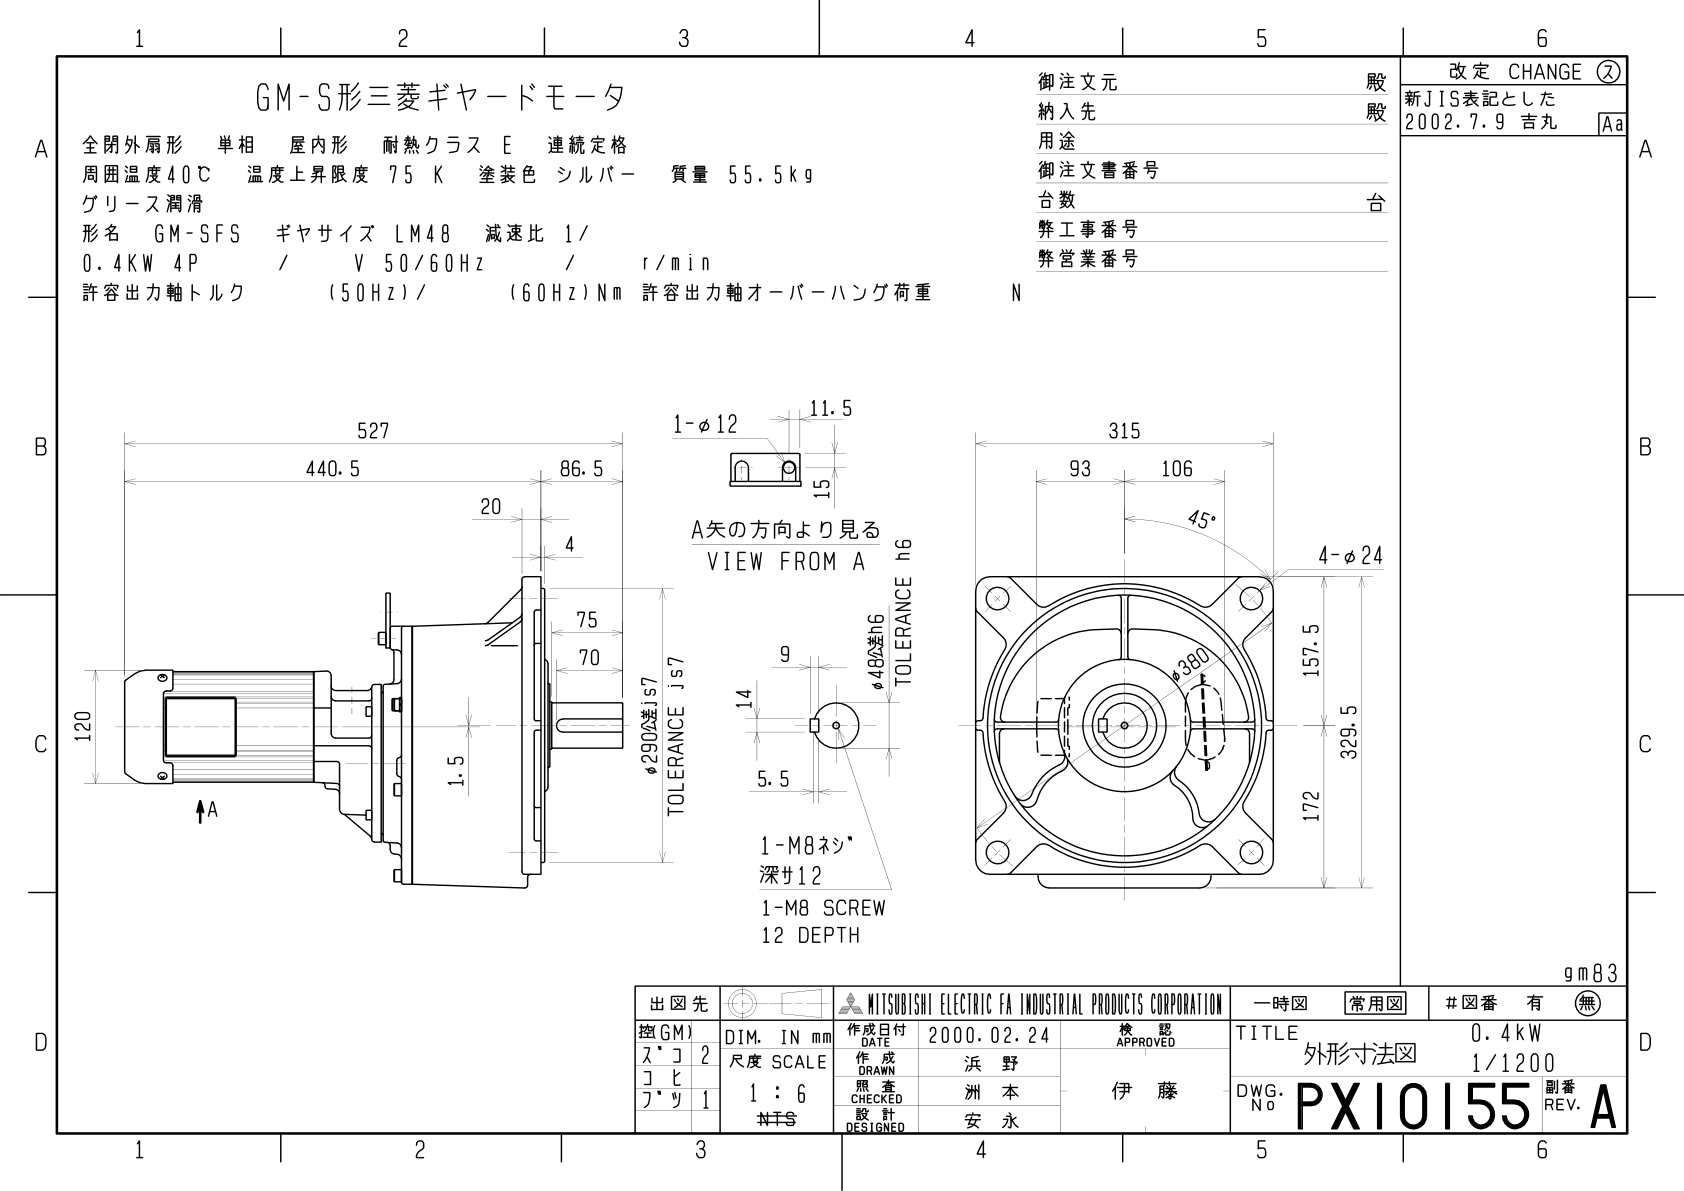GM_S_屋内＿単相_フランジ: (63, 360, 1392, 962)
